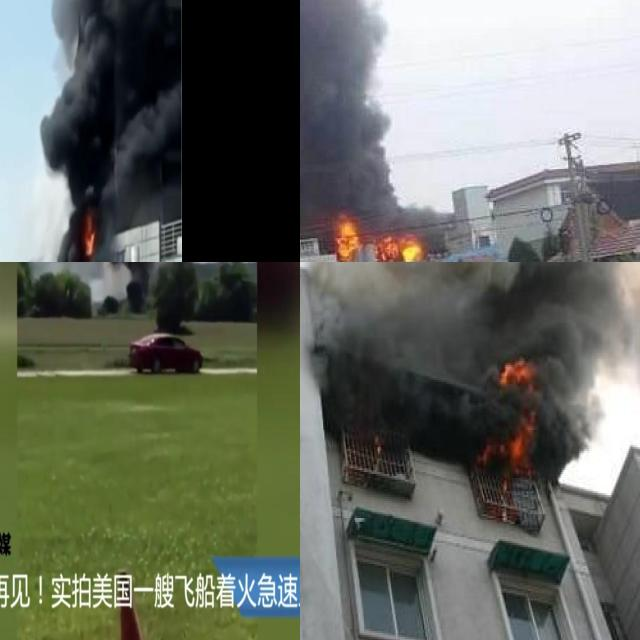fire: (477, 363, 539, 466), (335, 214, 428, 262), (332, 213, 359, 260), (83, 213, 97, 255)
smoke: (300, 262, 640, 455), (12, 0, 182, 262), (300, 0, 404, 232), (61, 262, 169, 310)
